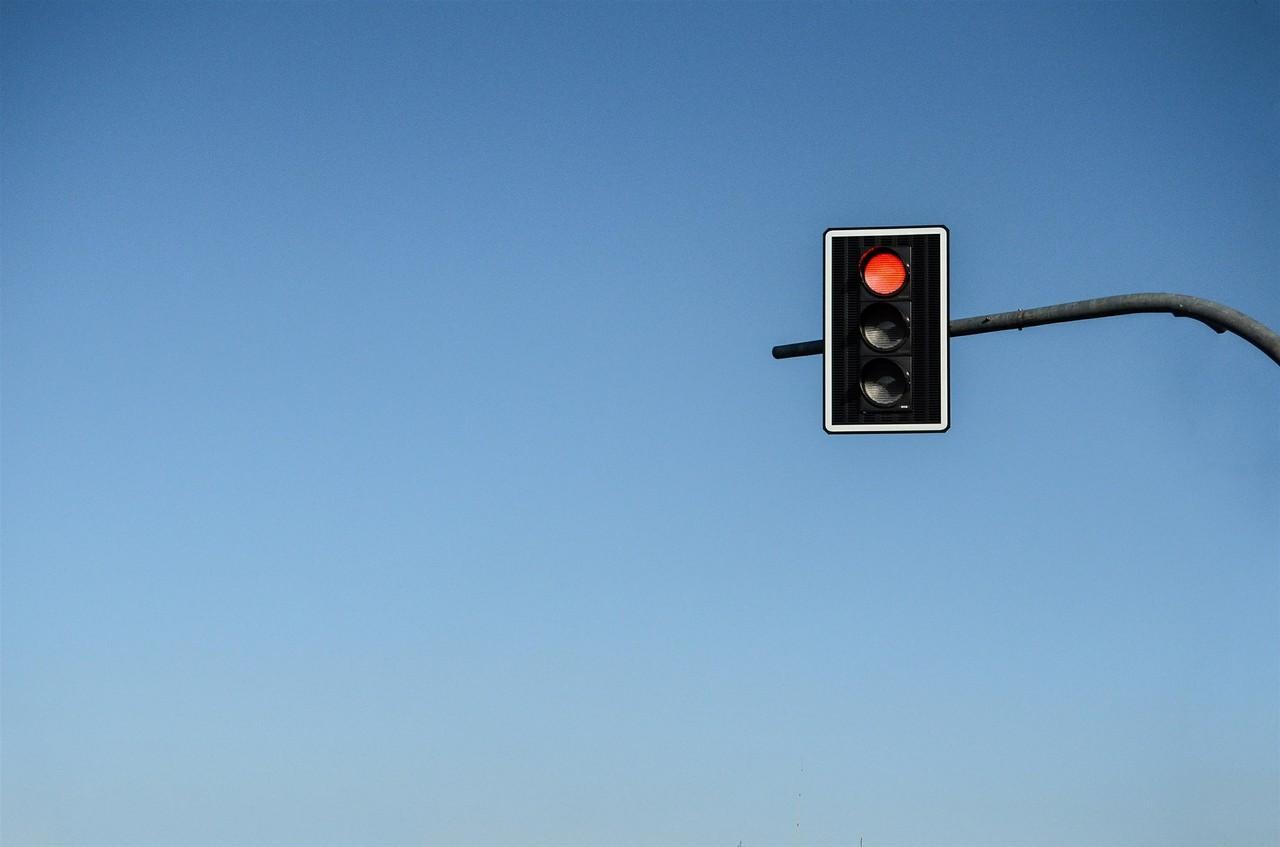red: (802, 222, 986, 450)
